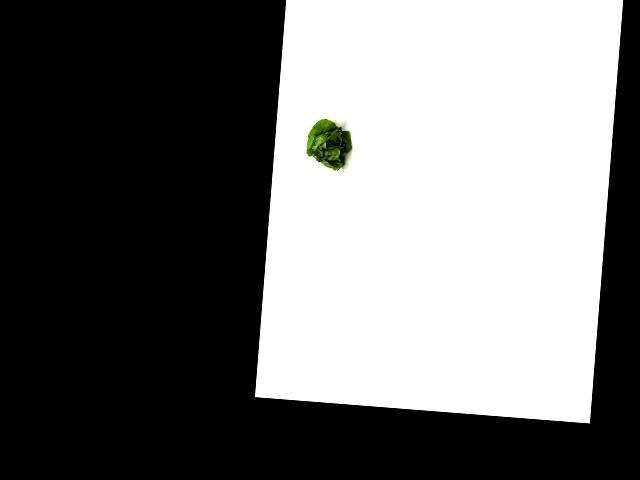lettuce: (300, 116, 356, 173)
